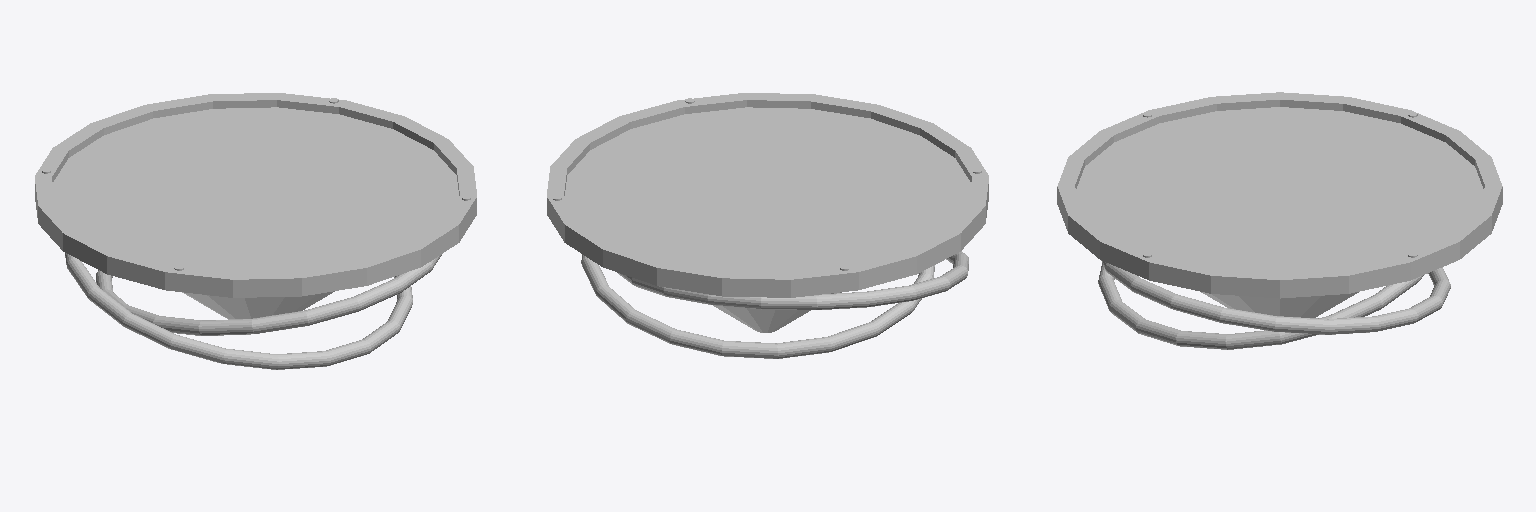
The model's file is platform.obj.
The picture shows the model from 3 angles: view 1: azimuth 30°, elevation 25°; view 2: azimuth 150°, elevation 25°; view 3: azimuth 270°, elevation 25°; orthographic projection.
Parts seen in each view (by area): view 1: group3; view 2: group3; view 3: group3.
Boxes of the visible parts, <box> form: group3: <box>35,93,476,369</box>; group3: <box>547,93,988,358</box>; group3: <box>1057,92,1502,349</box>.
Bounding box in the file's own units: 55.89 × 19.97 × 55.89.